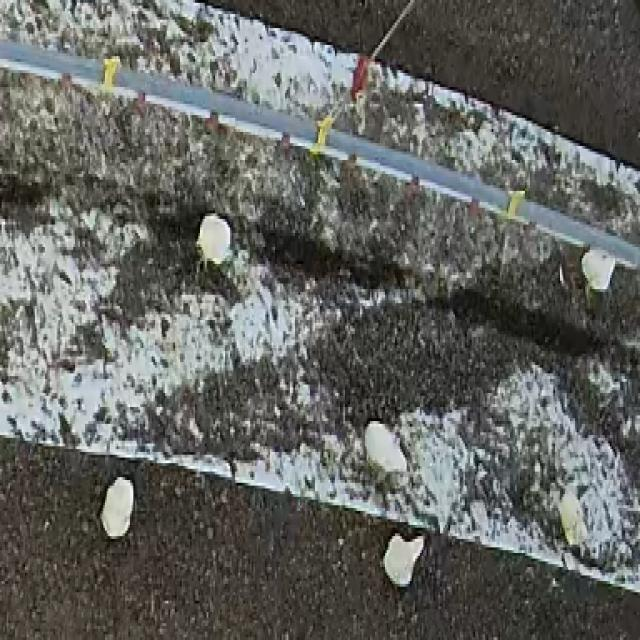broiler: (363, 421, 407, 472), (383, 533, 423, 587), (100, 477, 132, 536), (197, 213, 230, 264), (560, 486, 585, 547), (582, 247, 615, 289)
pipe: (117, 70, 313, 146), (330, 129, 505, 208), (522, 202, 638, 264), (0, 39, 100, 84)
